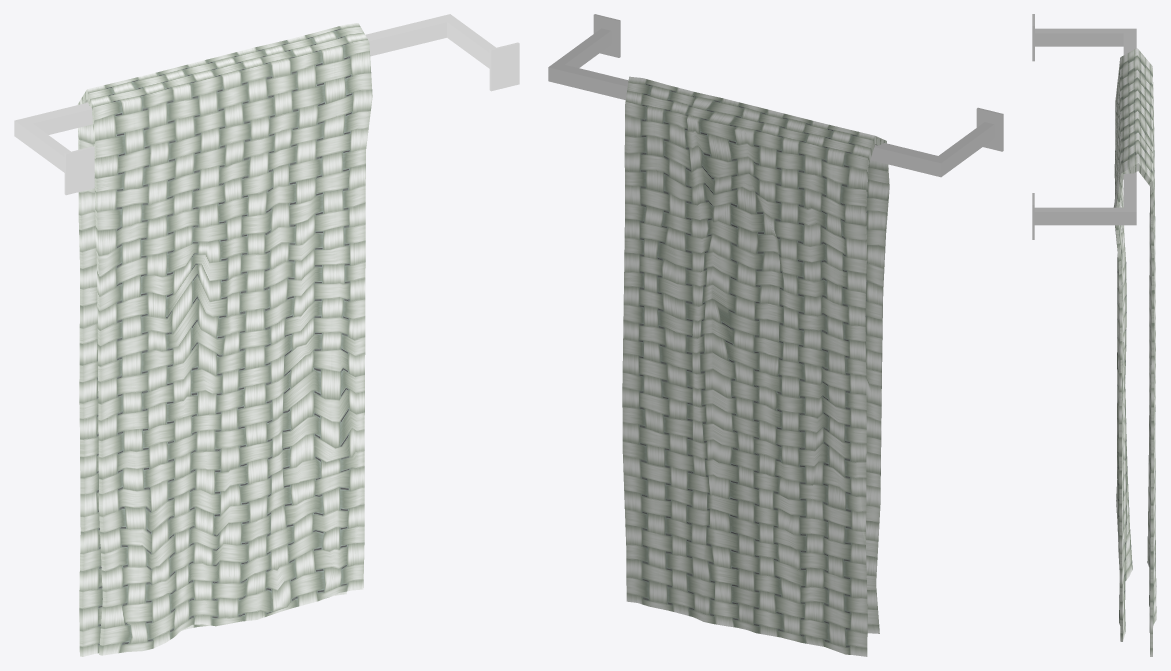
File: TowelHolder_688280e1.obj
The picture shows the model from 3 angles, left to right: view 1: azimuth 30°, elevation 25°; view 2: azimuth 150°, elevation 25°; view 3: azimuth 270°, elevation 25°; orthographic projection. The views are drawn at different scales.
Visible parts, largest first — view 1: TowelMesh_e28969e6, BathTowelHolderMesh_cf3bab4c; view 2: TowelMesh_e28969e6, BathTowelHolderMesh_cf3bab4c; view 3: TowelMesh_e28969e6, BathTowelHolderMesh_cf3bab4c.
Boxes of the visible parts, x1,y1,x2,y2 form: TowelMesh_e28969e6: (77,23,372,656); BathTowelHolderMesh_cf3bab4c: (14,14,519,195); TowelMesh_e28969e6: (622,76,889,656); BathTowelHolderMesh_cf3bab4c: (548,14,1003,177); TowelMesh_e28969e6: (1113,48,1156,656); BathTowelHolderMesh_cf3bab4c: (1032,14,1136,239).
Size of the model in its own units: 0.4804 by 0.5837 by 0.1322.
